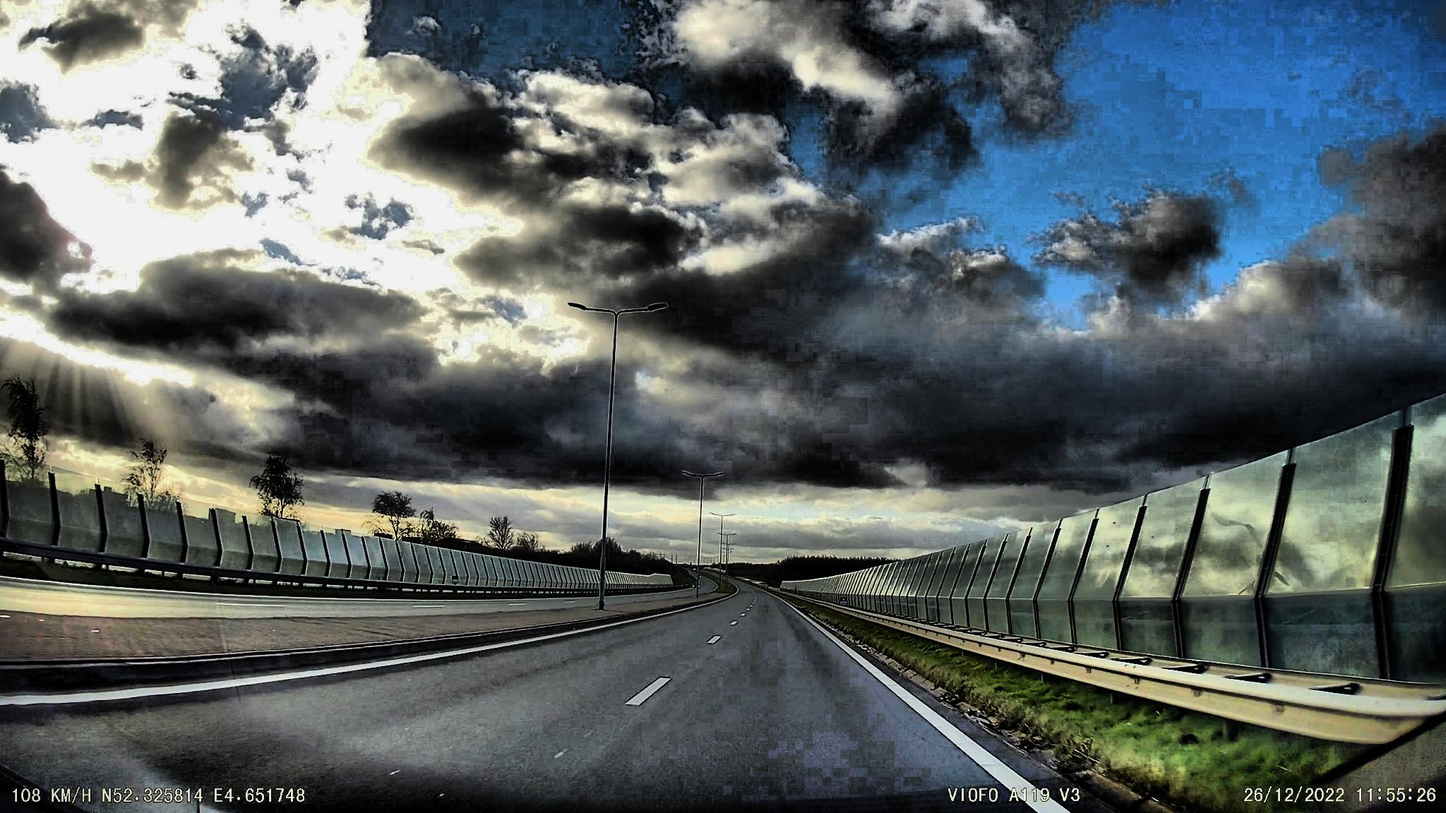Roads: (0, 592, 1071, 813)
